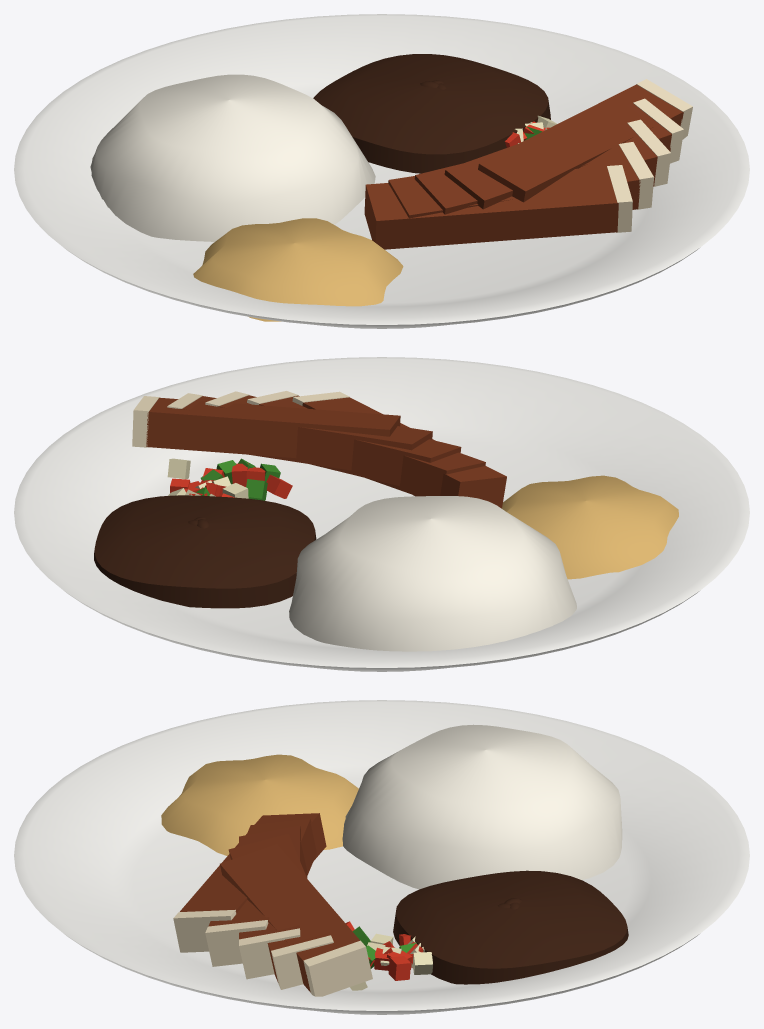
Rendered from picanha_completa.glb.
3 views of the same model, one above another, from view 1: azimuth 30°, elevation 25°; view 2: azimuth 150°, elevation 25°; view 3: azimuth 270°, elevation 25° (orthographic).
Visible parts, largest first — view 1: picanha_completa; view 2: picanha_completa; view 3: picanha_completa.
Boxes of the visible parts, x1,y1,x2,y2 form: picanha_completa: (14,14,749,328); picanha_completa: (14,357,749,671); picanha_completa: (14,700,749,1014).
Bounding box in the file's own units: 0.284 × 0.048 × 0.284.
